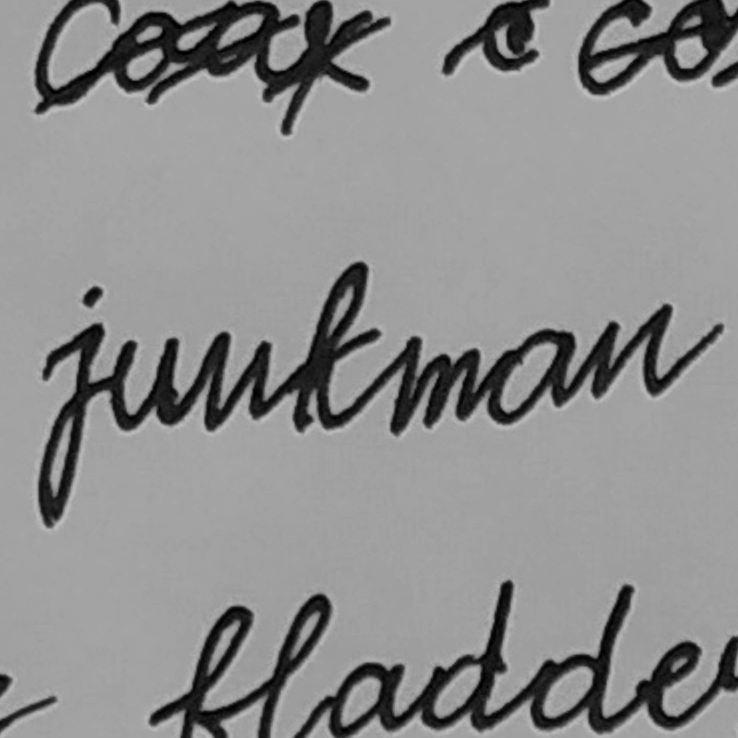a: (486, 320, 580, 429)
j: (29, 281, 109, 535)
k: (286, 257, 385, 436)
m: (386, 329, 483, 440)
n: (583, 295, 699, 410), (194, 324, 278, 439)
u: (110, 332, 189, 434)
